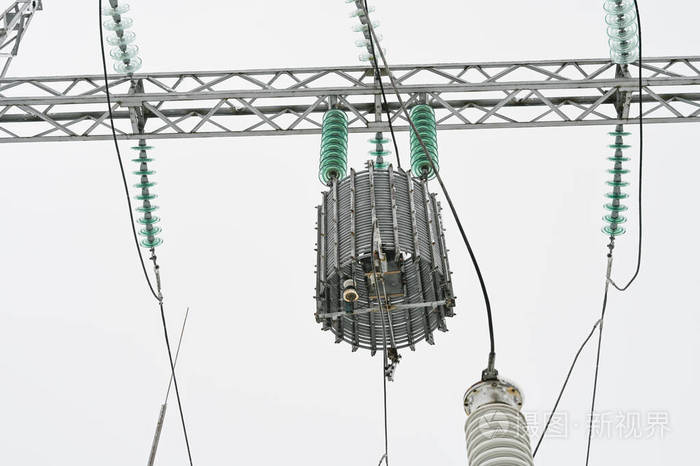insulator: (129, 144, 165, 249), (601, 129, 634, 236), (101, 6, 144, 73), (344, 1, 390, 62), (601, 1, 640, 65), (319, 108, 351, 182), (411, 103, 438, 179), (365, 135, 392, 169)
